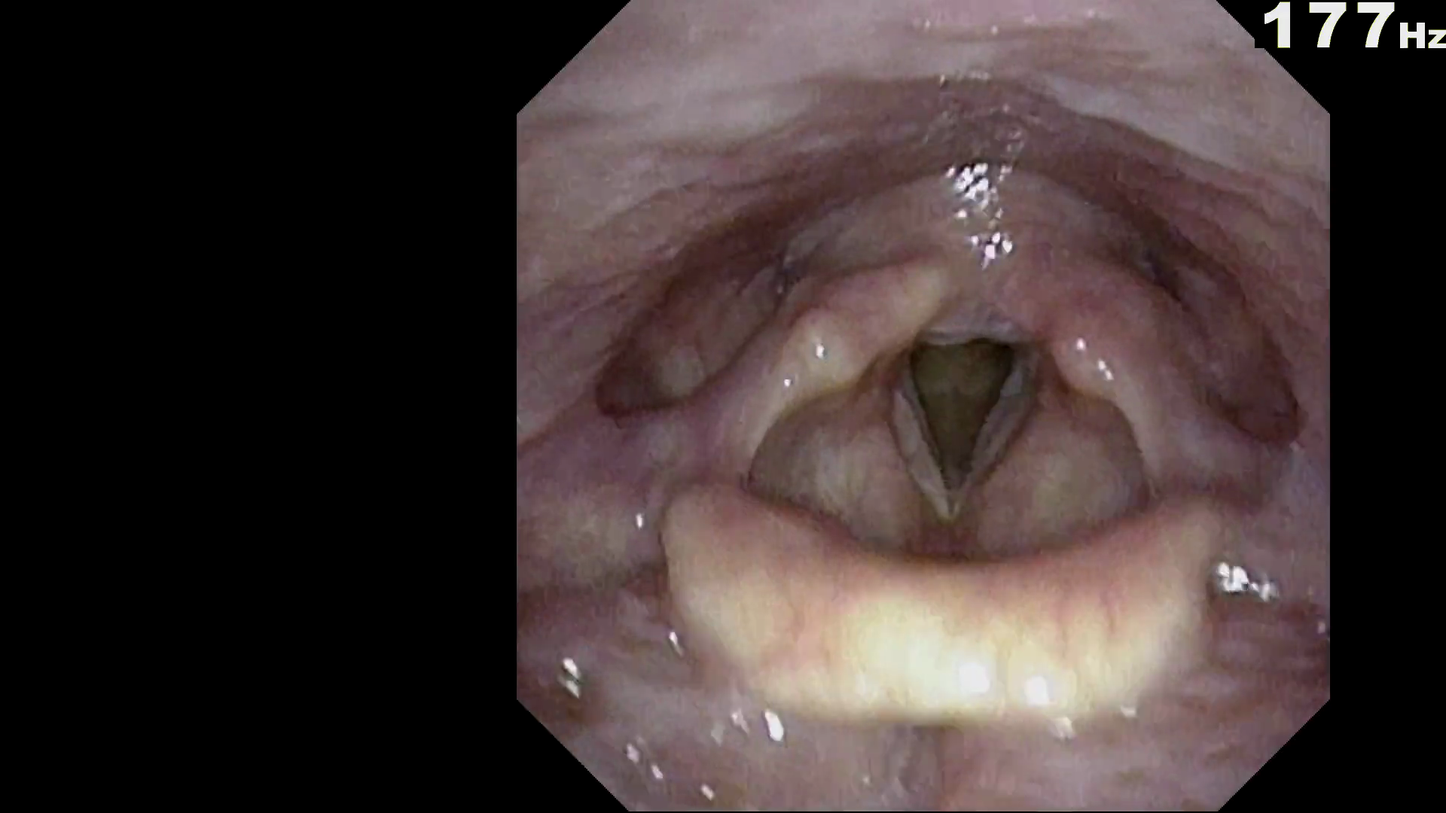epiglottis: (655, 428, 1236, 698)
trachea: (864, 292, 1045, 515)
